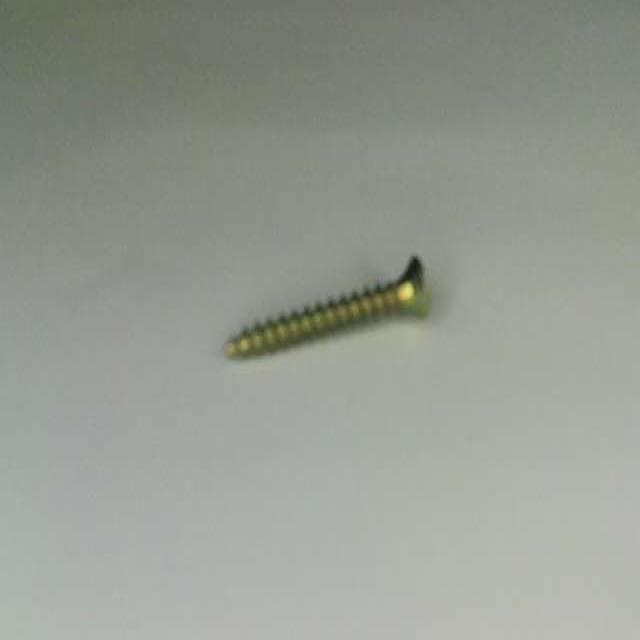Parafuso: (226, 257, 427, 357)
